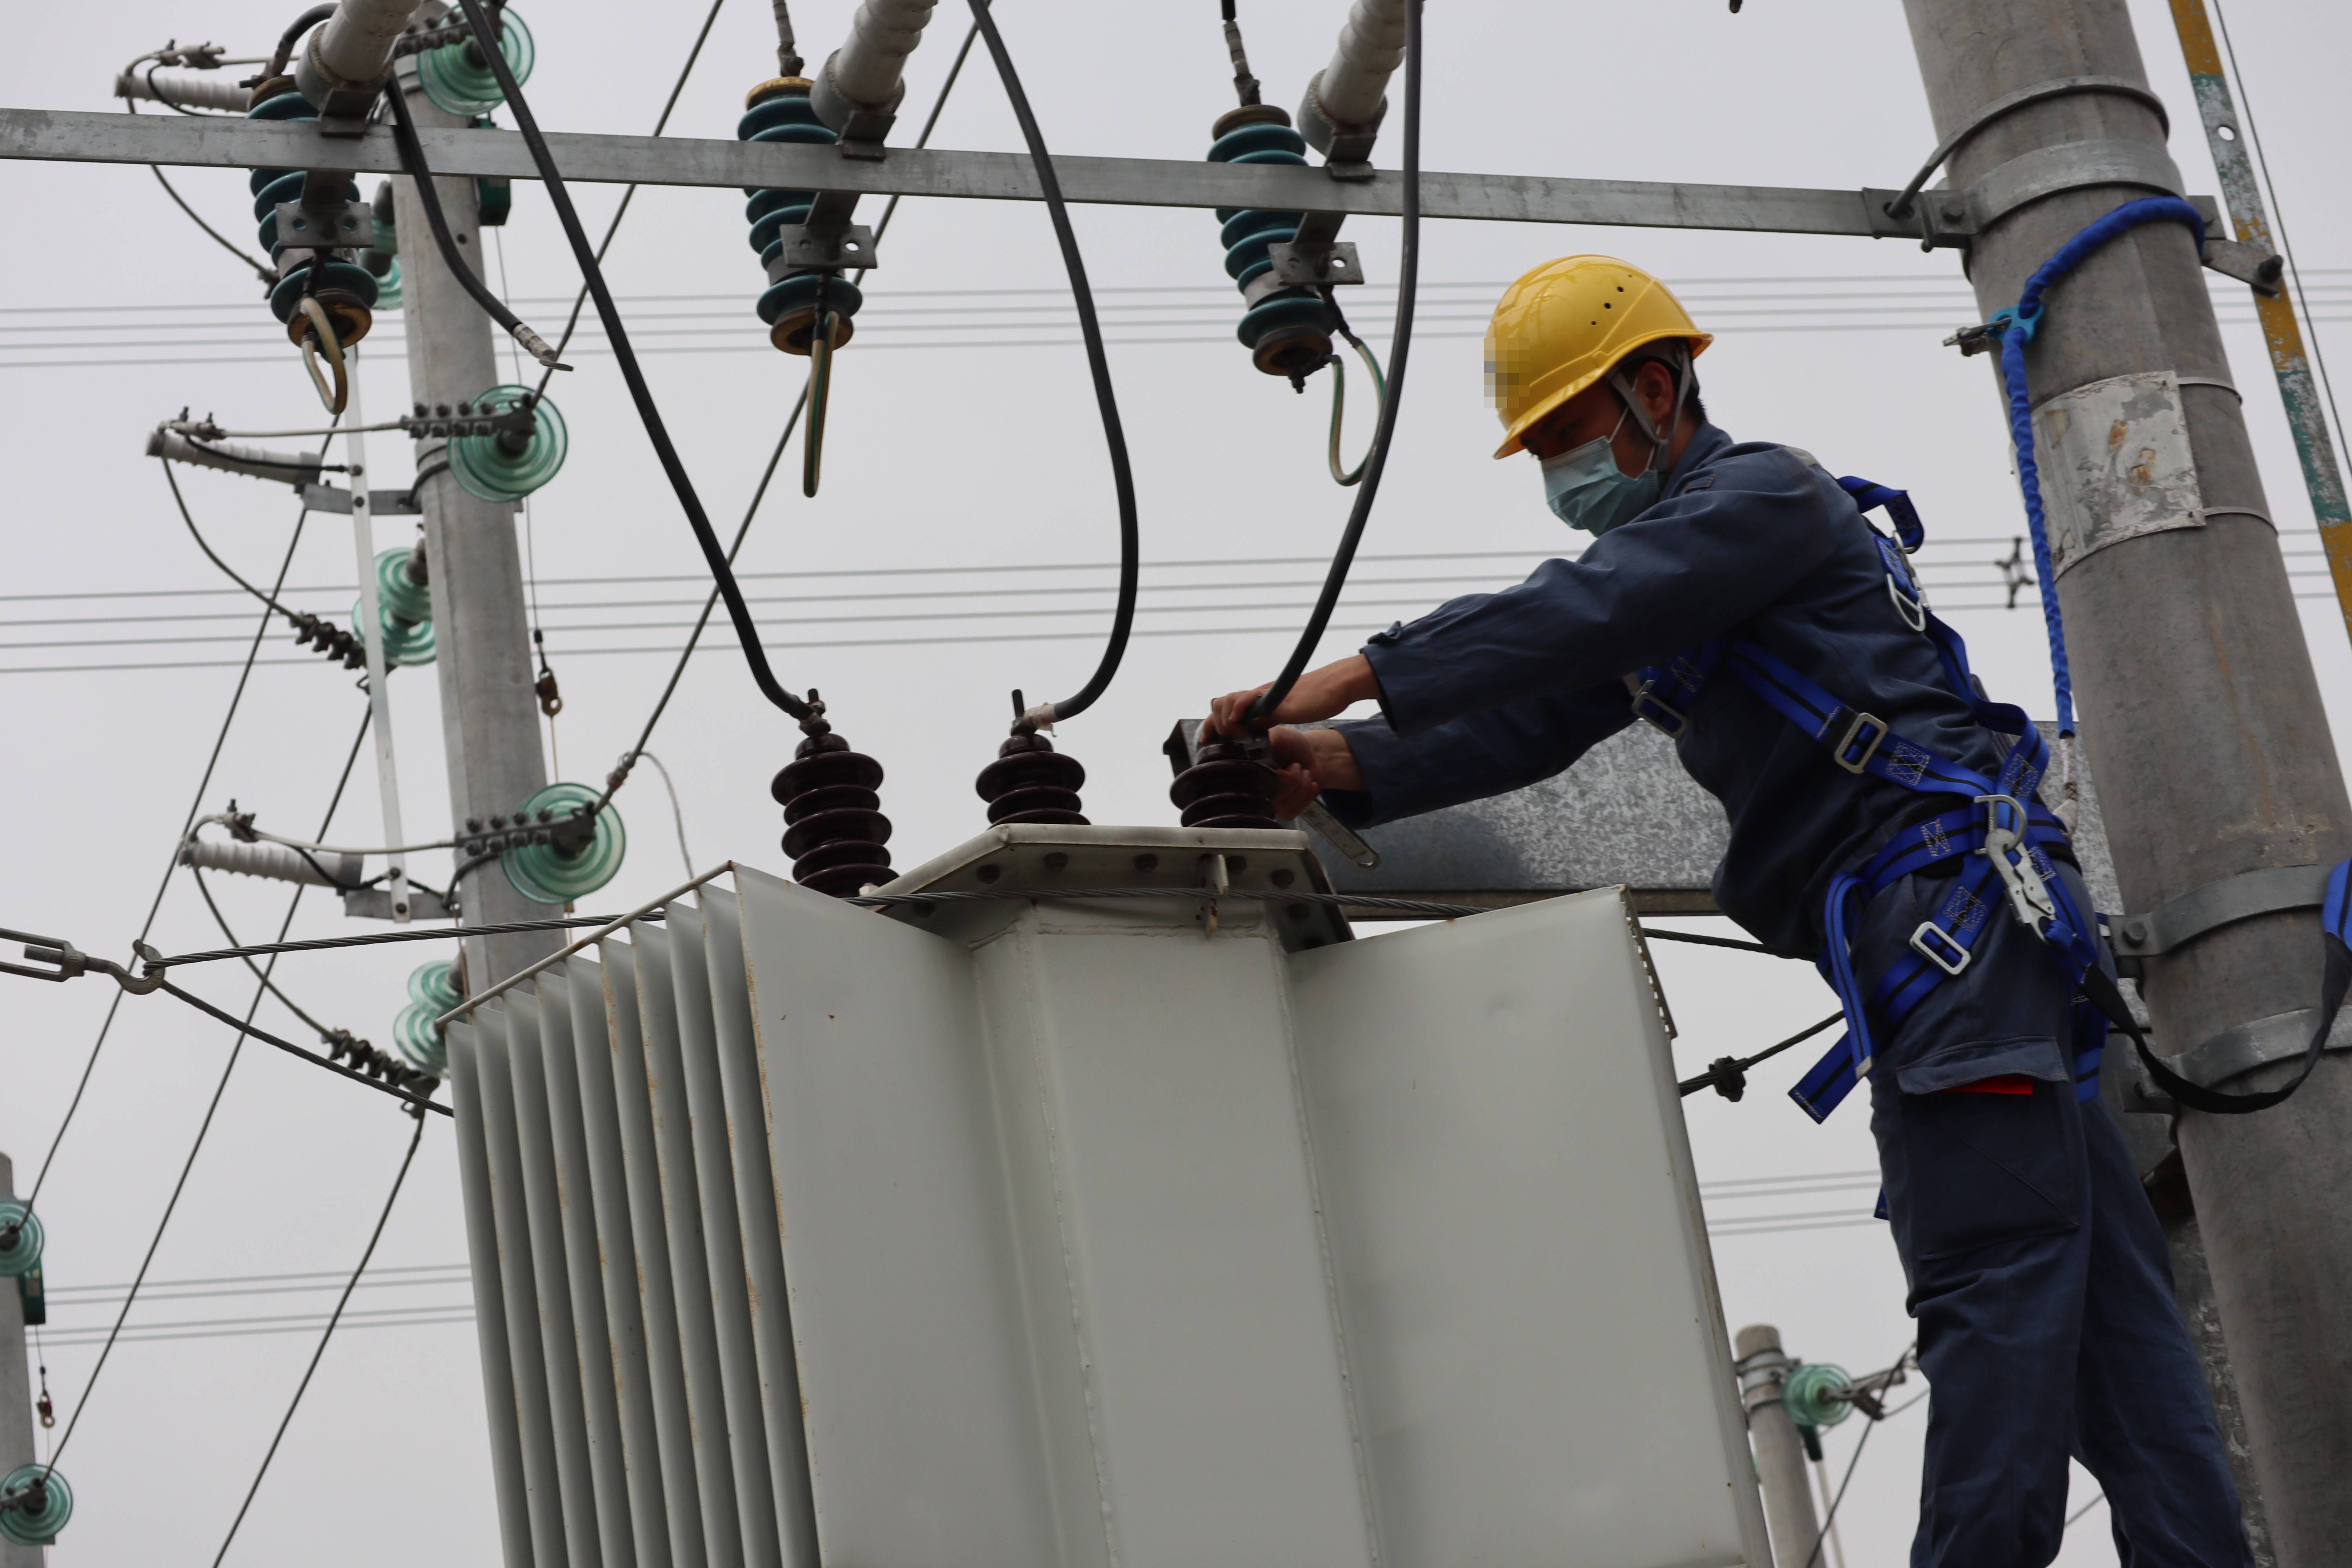downsuit: (1853, 849, 2254, 1563)
upsuit: (1333, 425, 2053, 810)
